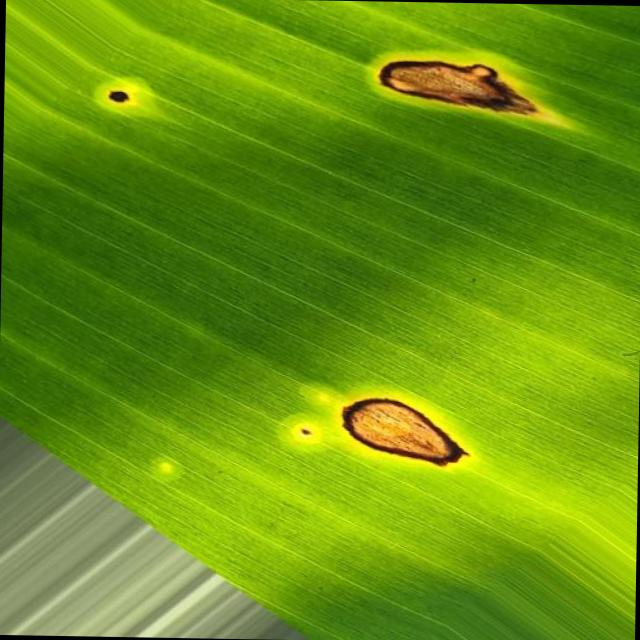Banana_Black_Sigatoka: (283, 336, 469, 508), (344, 41, 570, 146), (82, 55, 170, 122)
